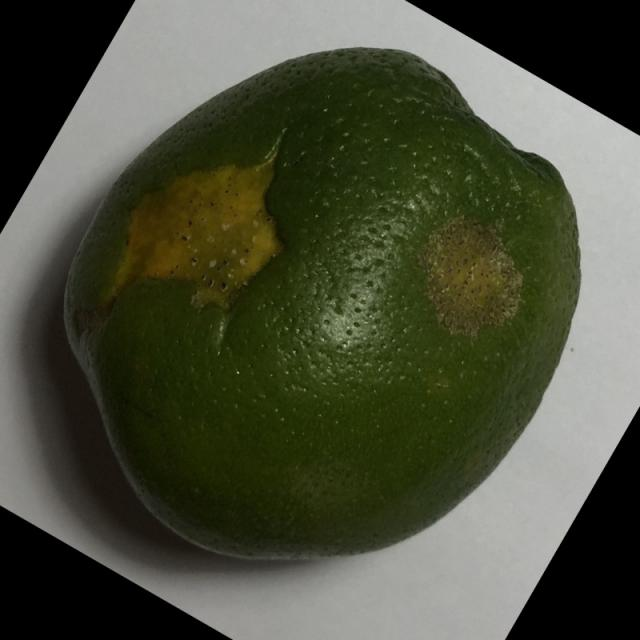canker: (36, 26, 596, 617)
